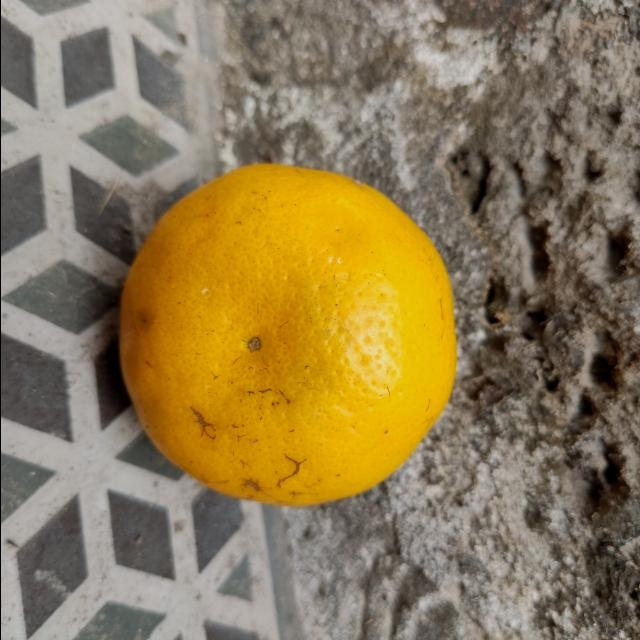agrume: (117, 164, 457, 508)
